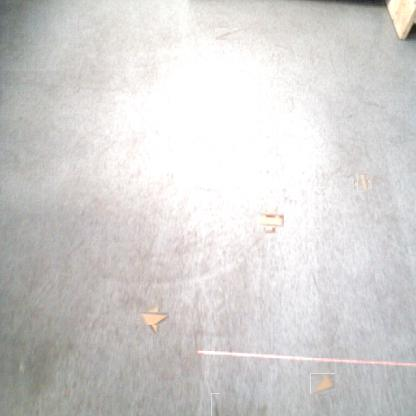dirty: (141, 307, 165, 330), (311, 372, 334, 395), (260, 209, 281, 230), (356, 176, 370, 191)
mark: (215, 28, 242, 40), (211, 393, 220, 416)
